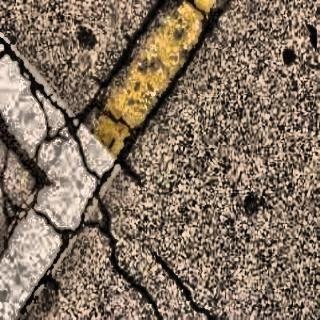alligator-crack: (1, 6, 214, 320)
